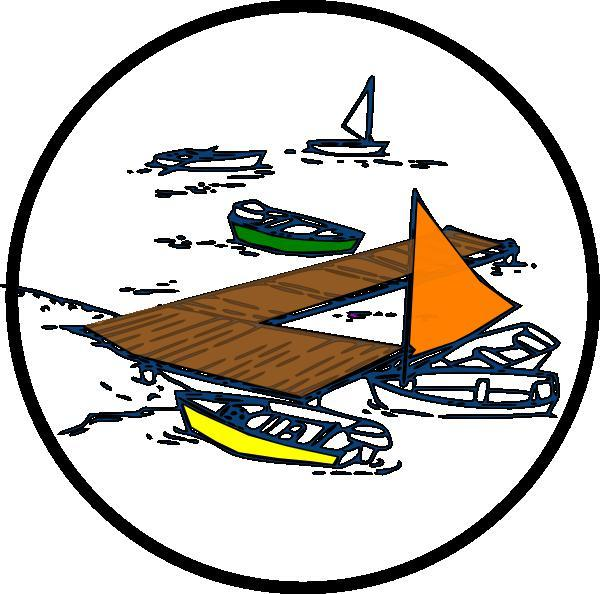boat: (373, 197, 562, 420), (170, 384, 392, 472), (225, 197, 365, 259), (298, 68, 394, 155), (397, 319, 564, 369), (144, 142, 271, 174)
